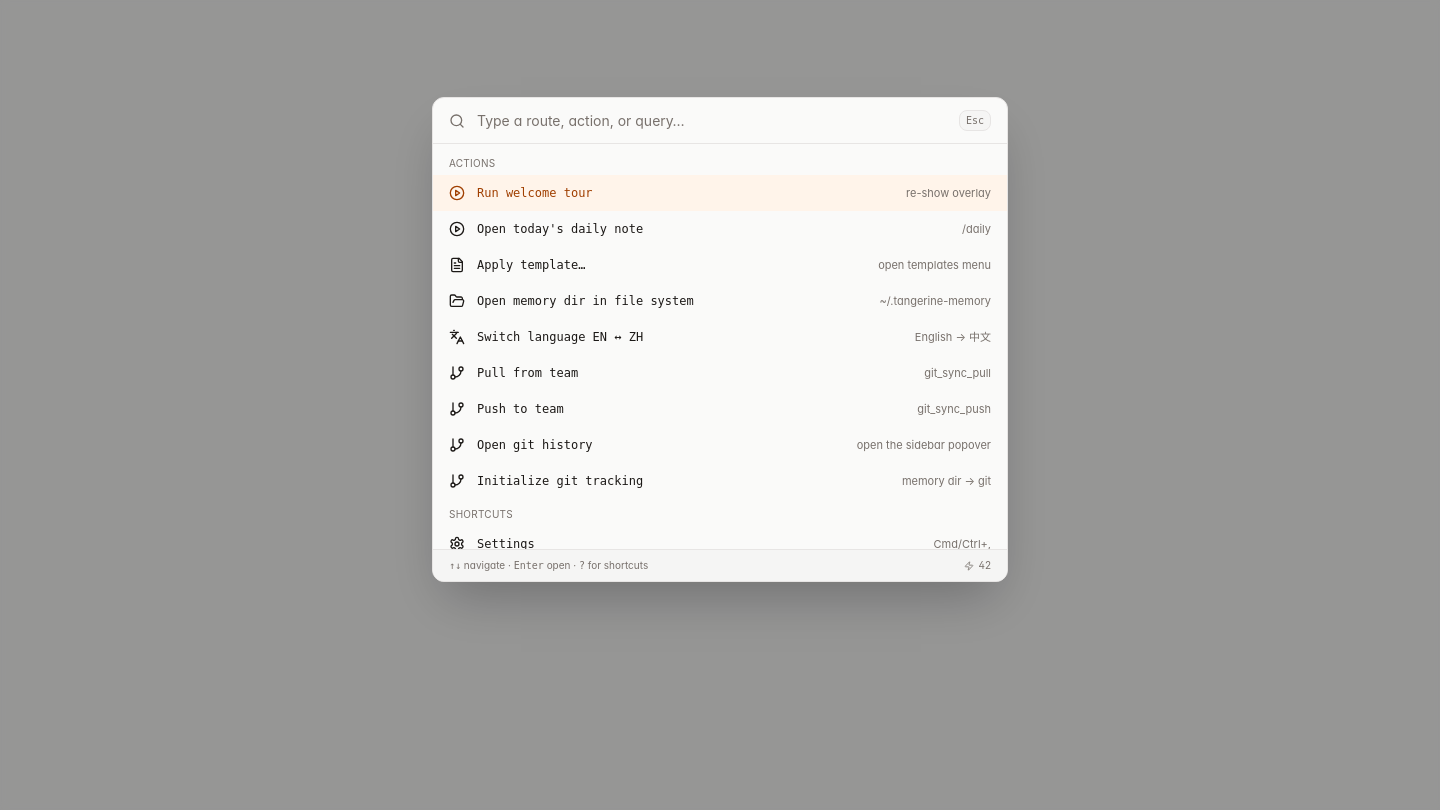
Test case: Wave 15 — Cmd+K palette memory search › shows the no-results status row when searchAtoms returns empty
The width and height of the screenshot is (1440, 810).
Step 1. Type "definitely-no-such-atom" into the field with test id "command-palette-input" → (712, 121), box x1=477 y1=111 x2=947 y2=131
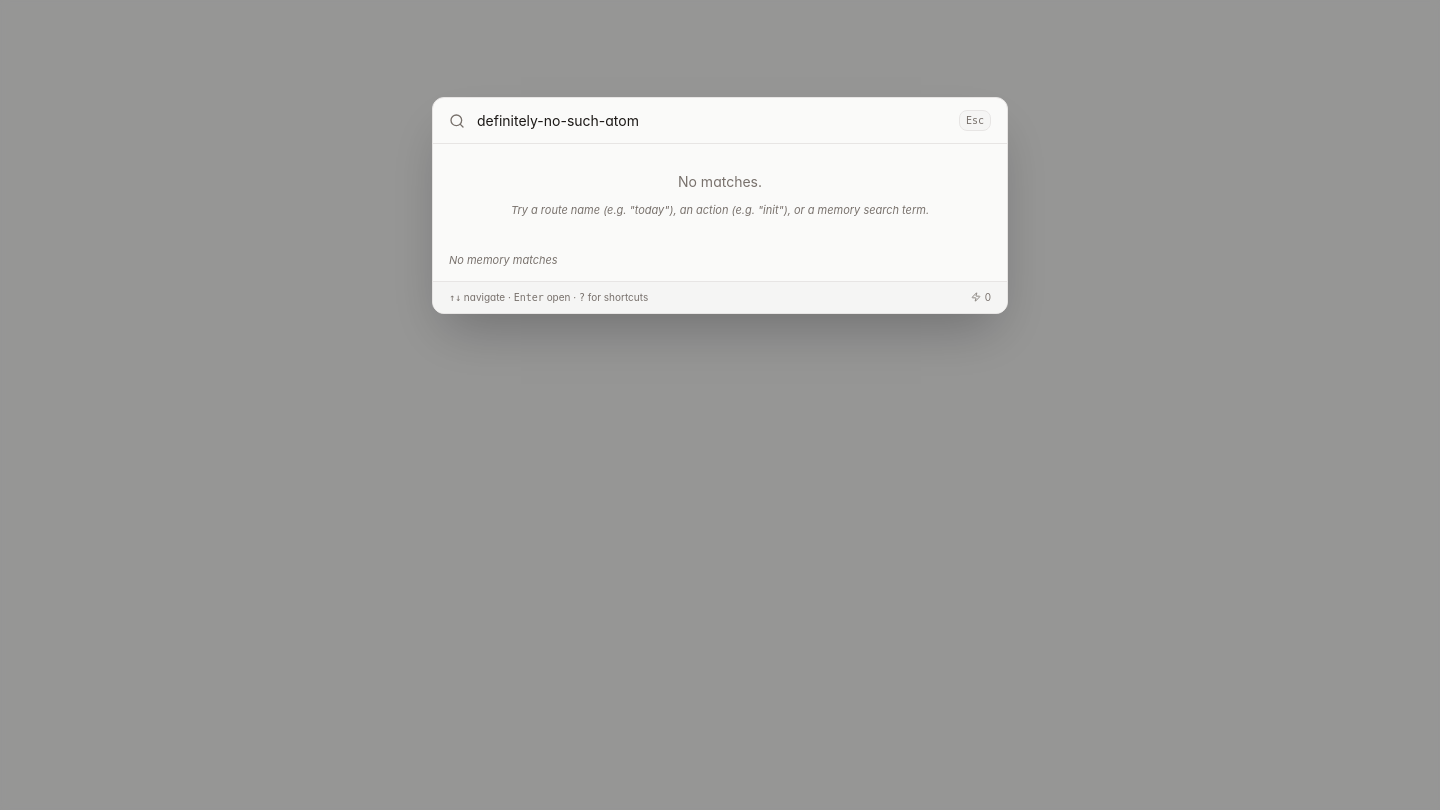
Result: the text "No memory matches" is shown at x1=449 y1=253 x2=558 y2=267
